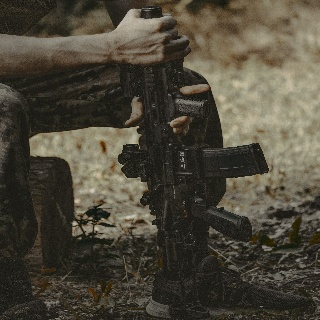rifle: (116, 5, 271, 273)
